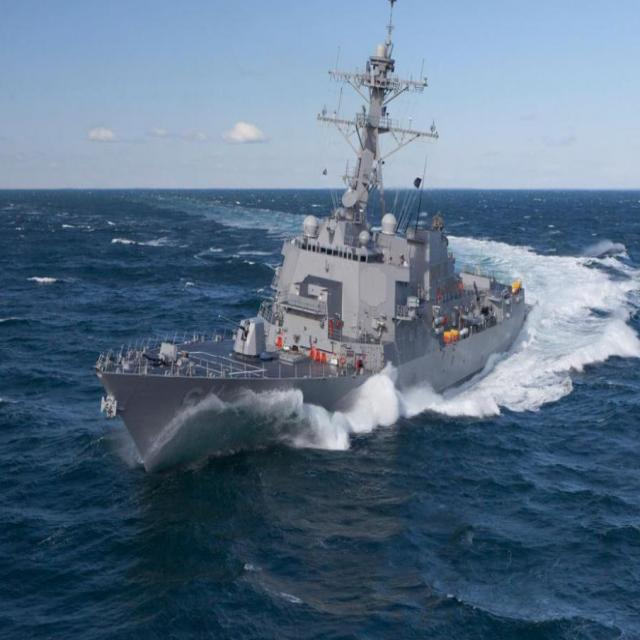navalvessels: (97, 15, 533, 442)
